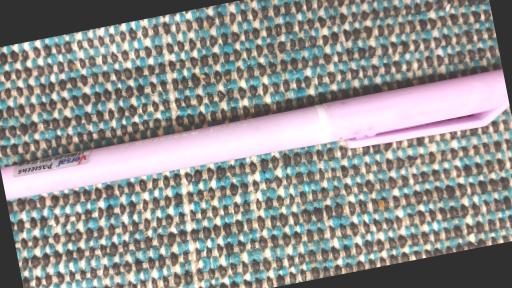pen: (0, 70, 512, 217)
